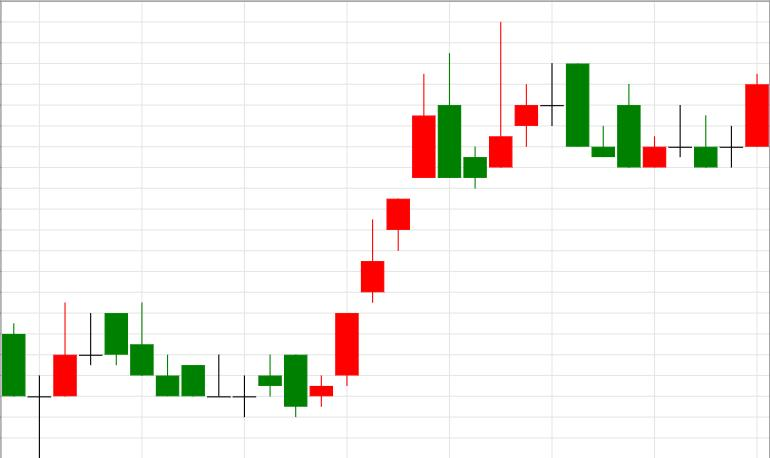bearish_engulfing_fall: (310, 54, 460, 408)
